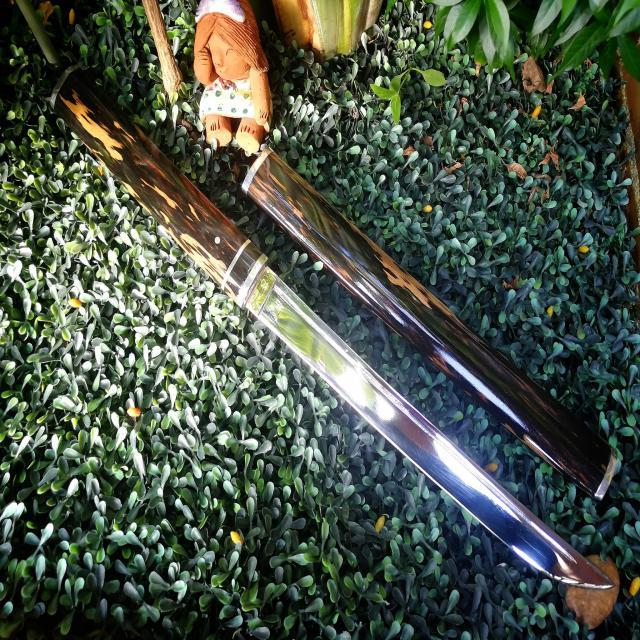short sword: (18, 56, 640, 611)
